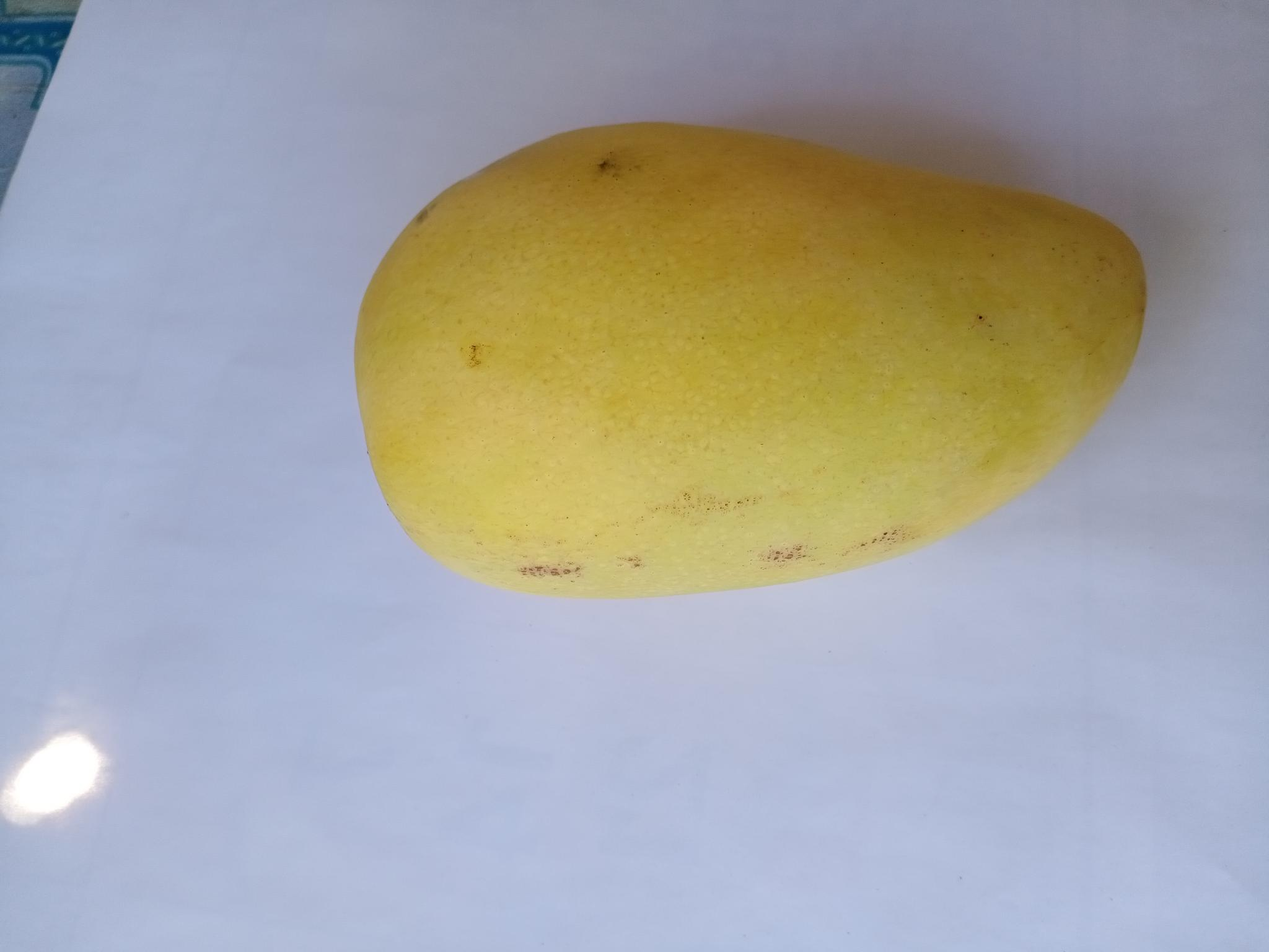Mango Ripe: (262, 74, 1198, 625)
